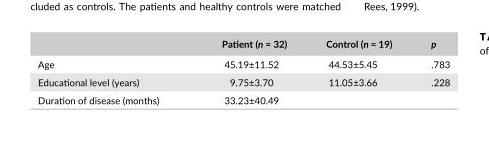table: (37, 37, 449, 105)
table column: (37, 37, 189, 105), (189, 37, 305, 105), (305, 37, 410, 105), (410, 37, 449, 105)
table column header: (37, 37, 449, 53)
table row: (37, 53, 449, 72), (37, 72, 449, 90), (37, 37, 449, 53), (37, 90, 449, 105)
